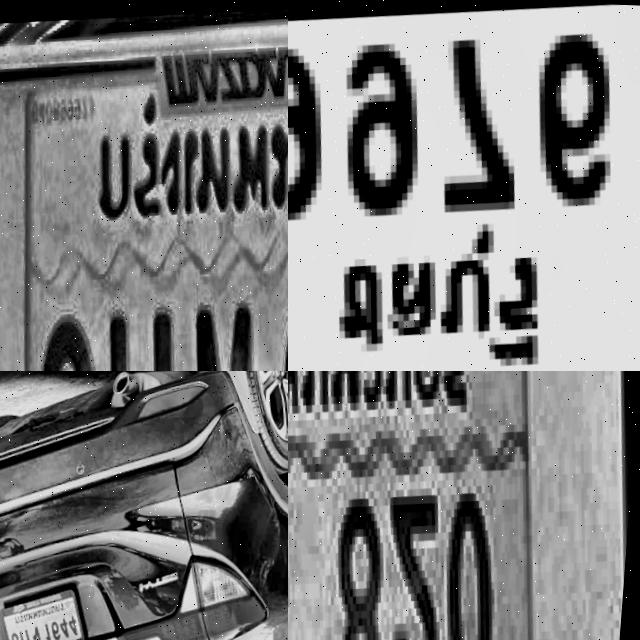license-plate: (288, 0, 640, 371), (0, 0, 288, 371), (288, 371, 640, 640), (0, 574, 102, 640)
